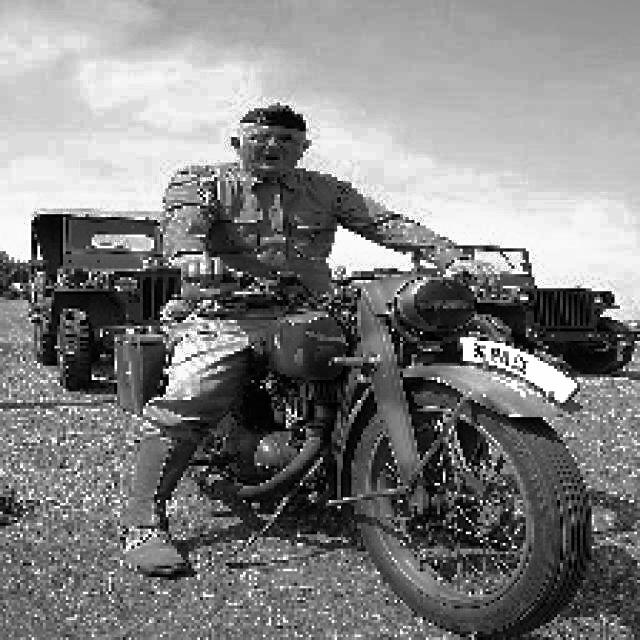Bike: (236, 258, 608, 632)
